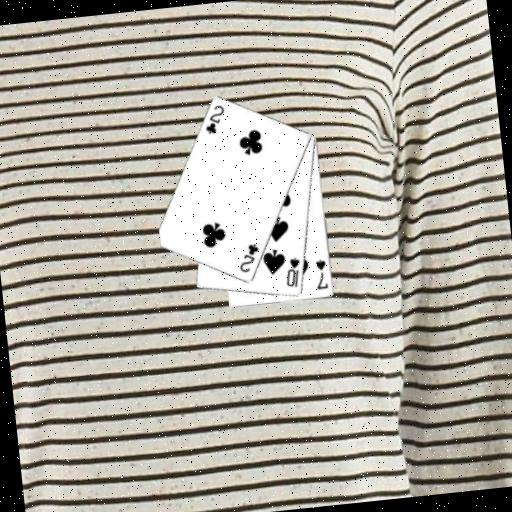10S: (282, 254, 305, 290)
2C: (234, 241, 263, 275), (200, 102, 228, 136)
7S: (311, 256, 330, 291)
